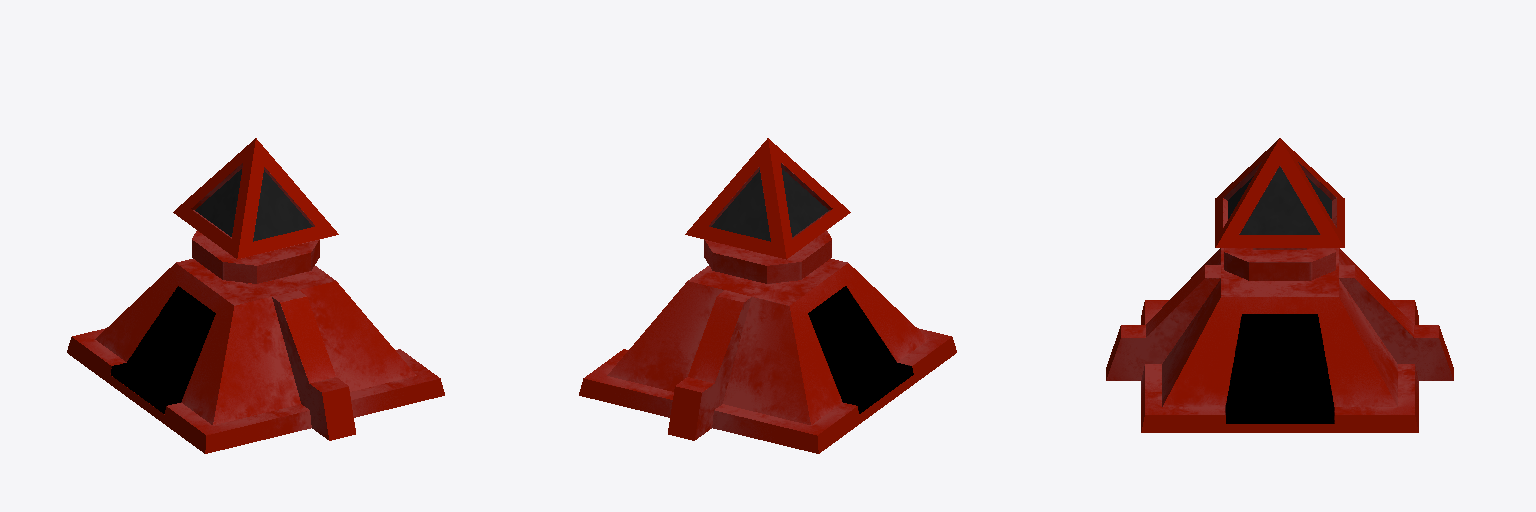
The picture shows the model from 3 angles: view 1: azimuth 30°, elevation 25°; view 2: azimuth 150°, elevation 25°; view 3: azimuth 270°, elevation 25°; orthographic projection.
Visible parts, largest first — view 1: PUR_low, BASE_low; view 2: PUR_low, BASE_low; view 3: PUR_low, BASE_low.
Part boxes in pixels (x1,y1,x2,y2): PUR_low: (67,231,444,453); BASE_low: (173,138,338,259); PUR_low: (579,231,956,453); BASE_low: (685,138,850,259); PUR_low: (1106,248,1453,432); BASE_low: (1215,138,1344,247).
Bounding box in the file's own units: 0.743 × 0.6983 × 0.9313.
1 materials, 1 textured.